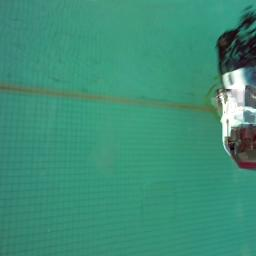Full: (215, 85, 256, 171)
